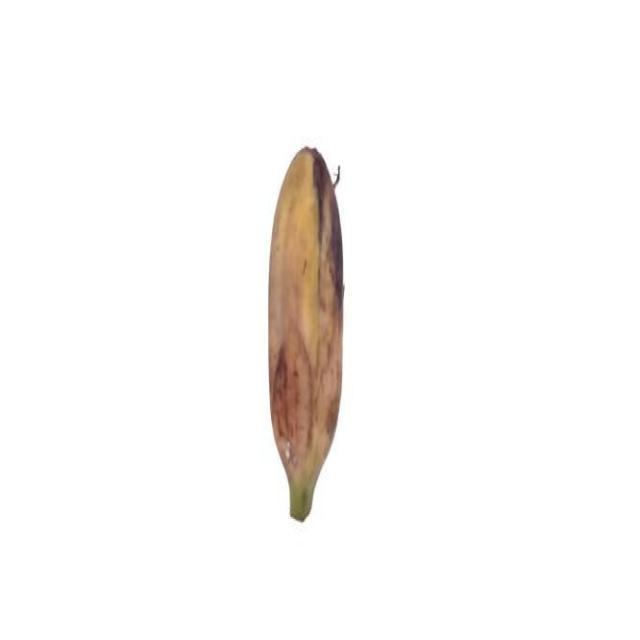banana: (259, 143, 352, 526)
